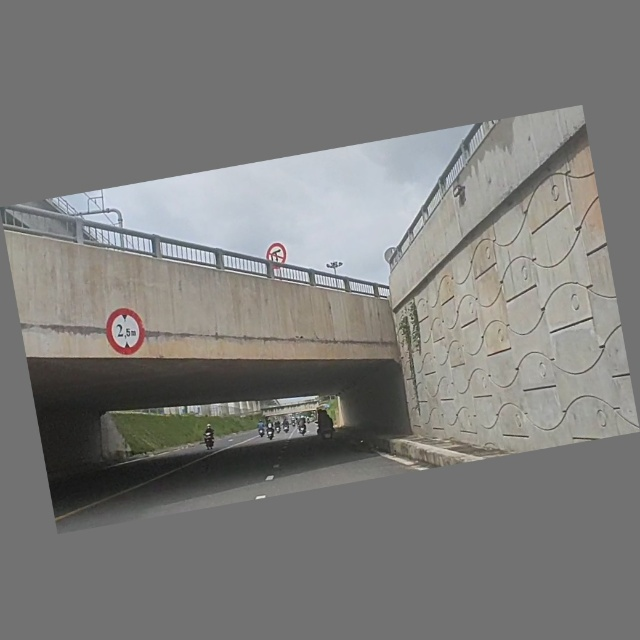P.117*: (103, 305, 150, 360)
P.124d: (264, 240, 289, 271)
